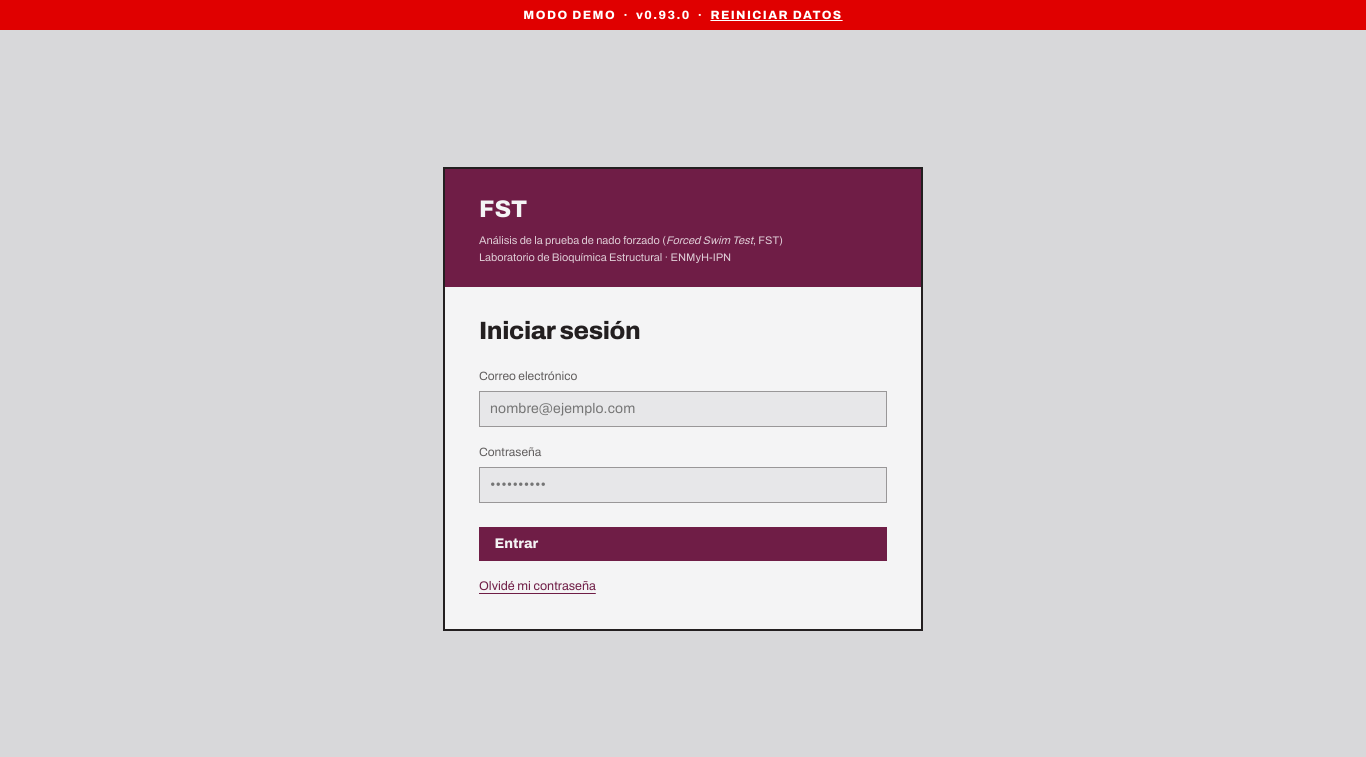
Test case: acceso › entra con una cuenta de ejemplo y llega a Experimentos
Type "mrivera@ipn.mx" into the field labelled "Correo electrónico" at (683, 409), box x1=479 y1=391 x2=887 y2=427
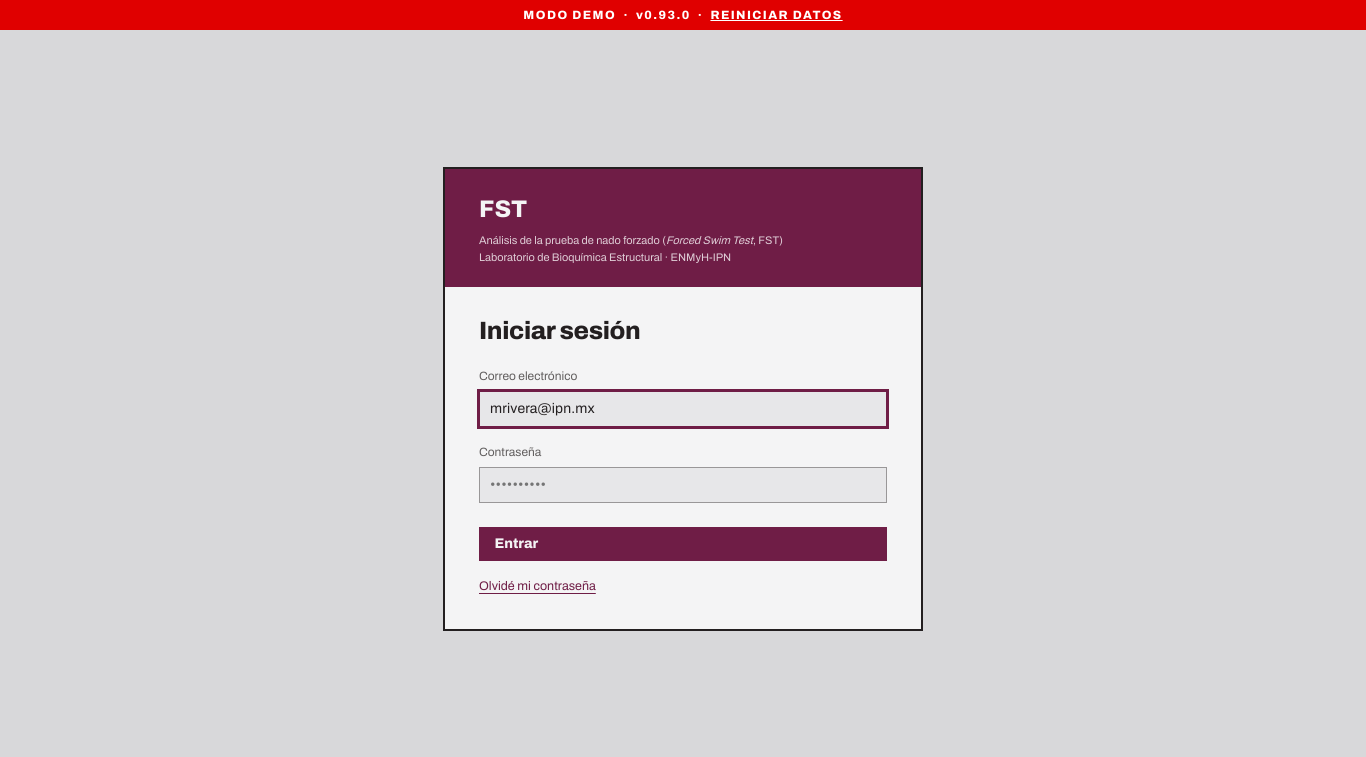
Type "x" into the password field labelled "Contraseña" at (683, 485), box x1=479 y1=467 x2=887 y2=503
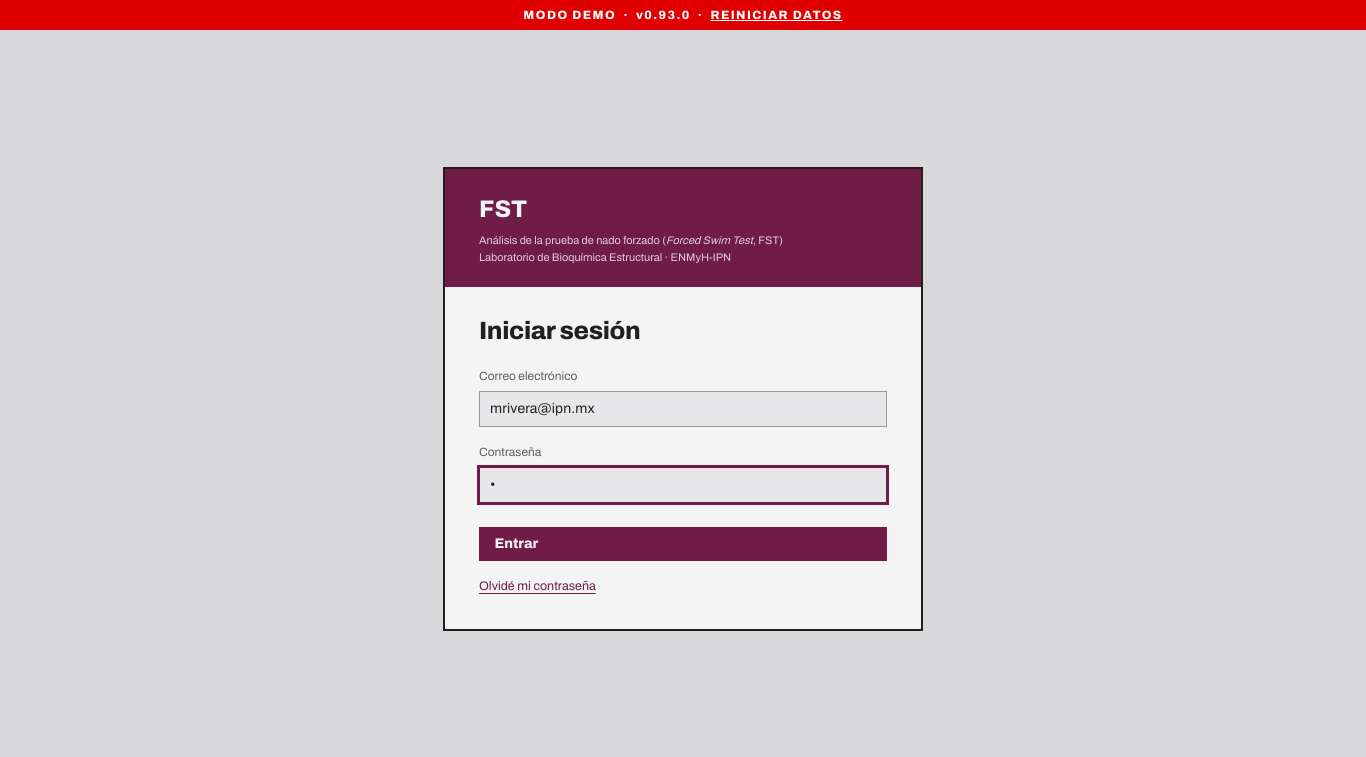
Click the button "Entrar" at (516, 543), box x1=479 y1=527 x2=887 y2=561
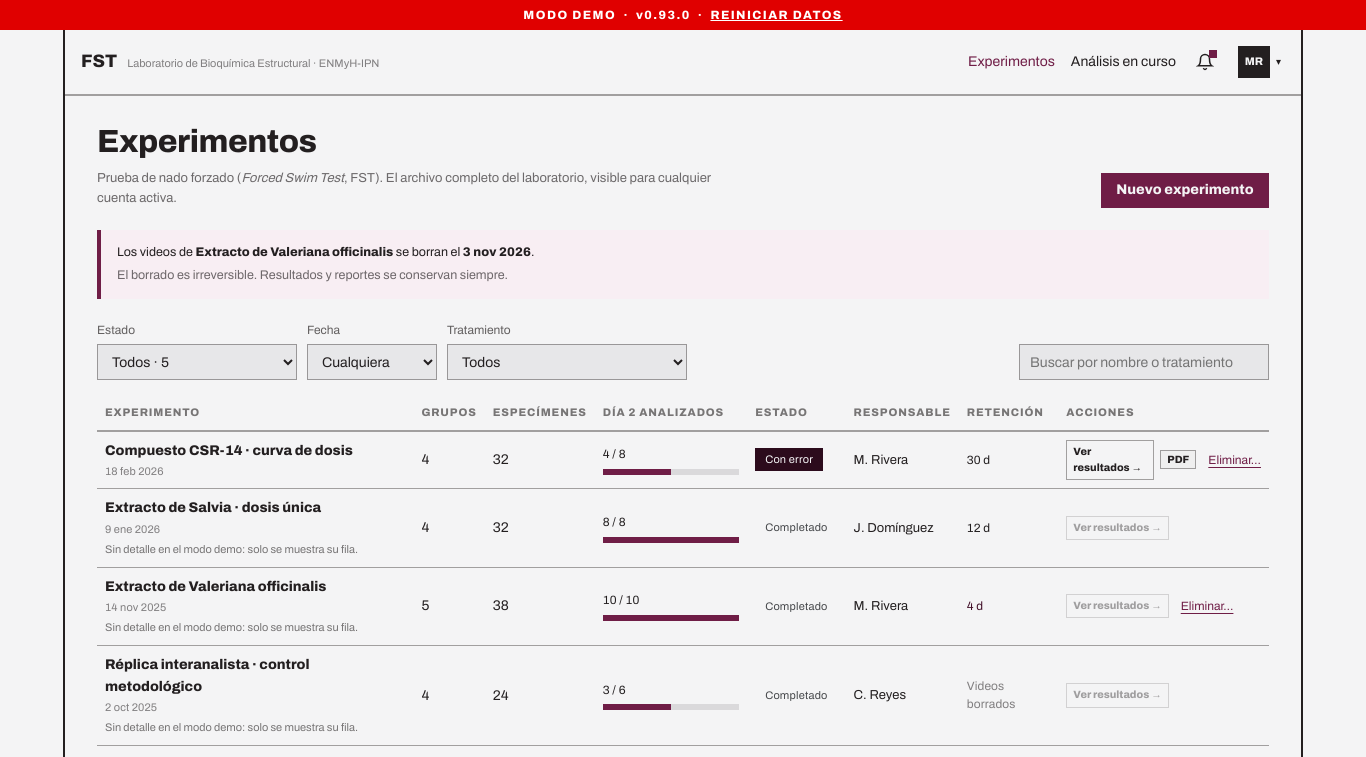
Expected: the heading "Experimentos" is shown, x1=97 y1=124 x2=317 y2=159
Expected: the link "Compuesto CSR-14 · curva de dosis" is shown, x1=105 y1=442 x2=353 y2=458
